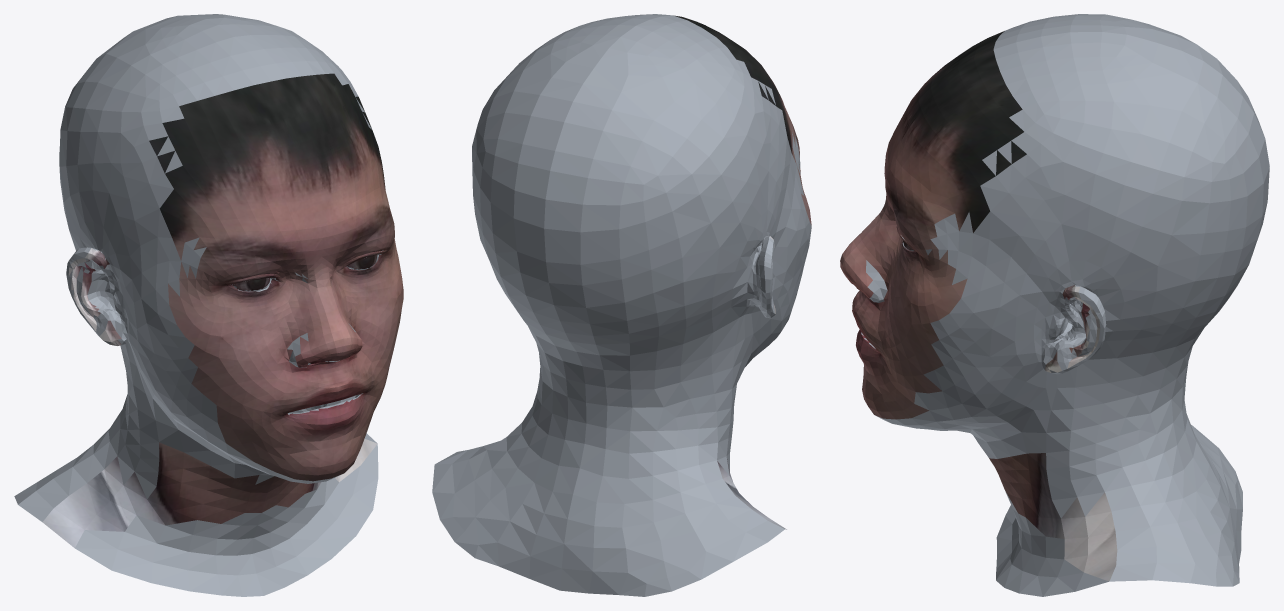
The model's file is head.photo.obj.
3 renders of one model, left to right at view 1: azimuth 30°, elevation 25°; view 2: azimuth 150°, elevation 25°; view 3: azimuth 270°, elevation 25°, orthographic. The views are drawn at different scales.
Bounding box in the file's own units: 0.214 × 0.3193 × 0.2301.
2 materials, 1 textured.
